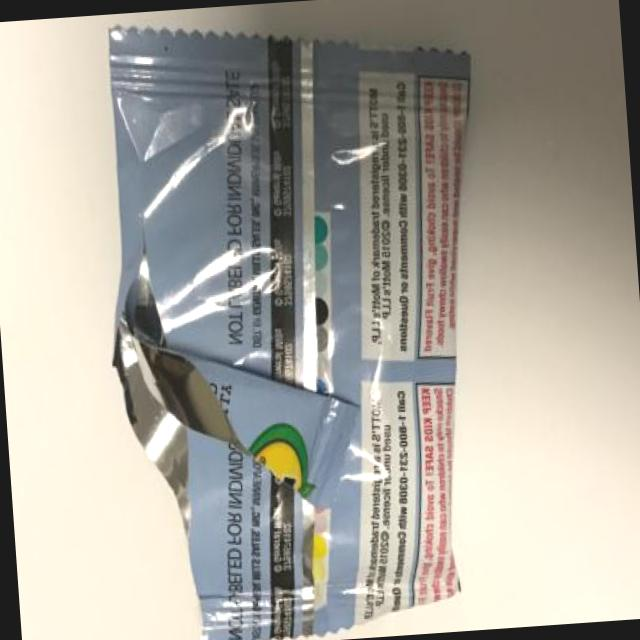giay_goi: (108, 26, 470, 640)
